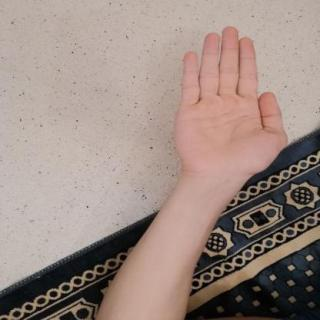SEEN: (168, 19, 296, 183)
